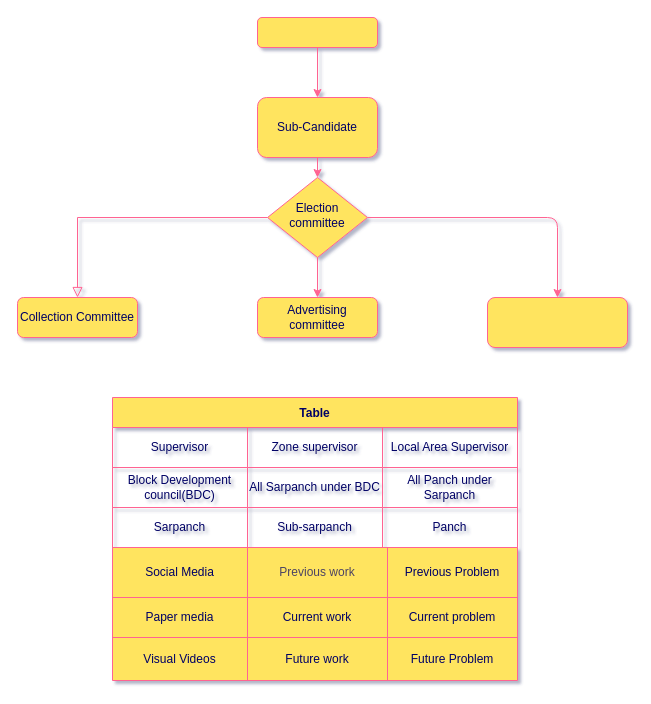
Image size: 651x704. Some labels were removed from this diagram. Each missing label, with the centre of its shape:
Candidate: the point at 317,32
connection committee: the point at 557,322
